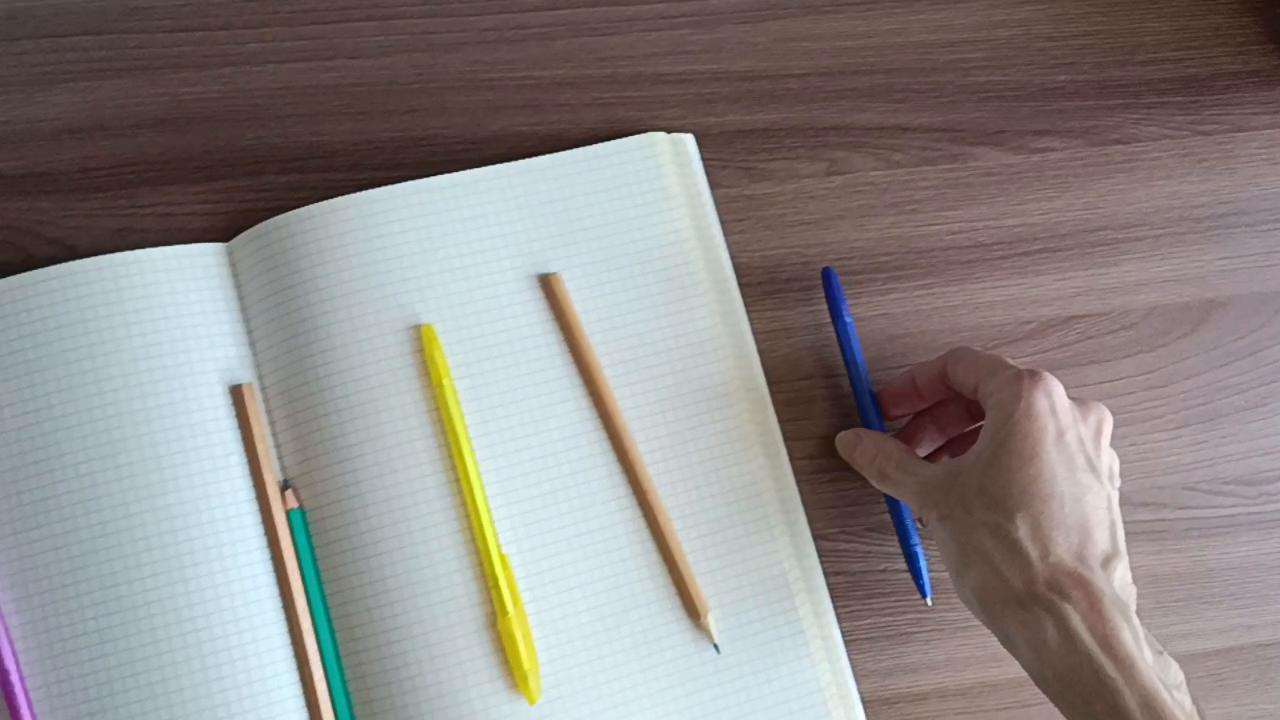pen: (413, 323, 546, 711), (821, 260, 937, 621), (0, 589, 31, 720)
pencil: (541, 270, 725, 659), (231, 383, 332, 720), (284, 479, 355, 720)
